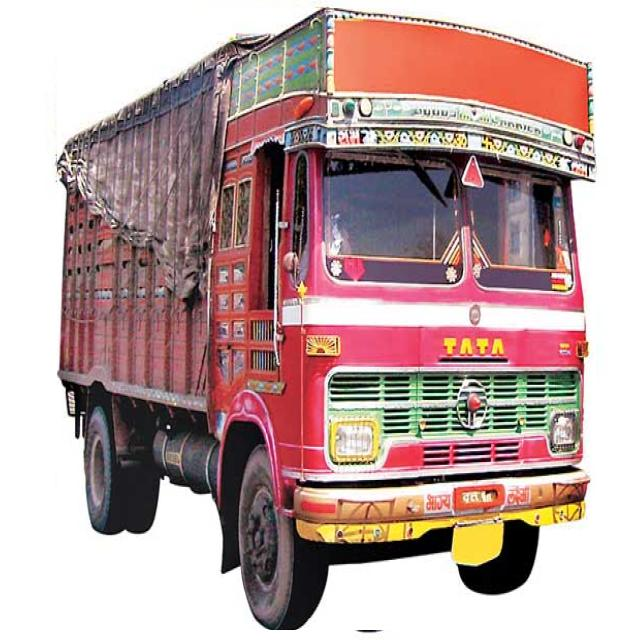truck: (57, 8, 595, 630)
